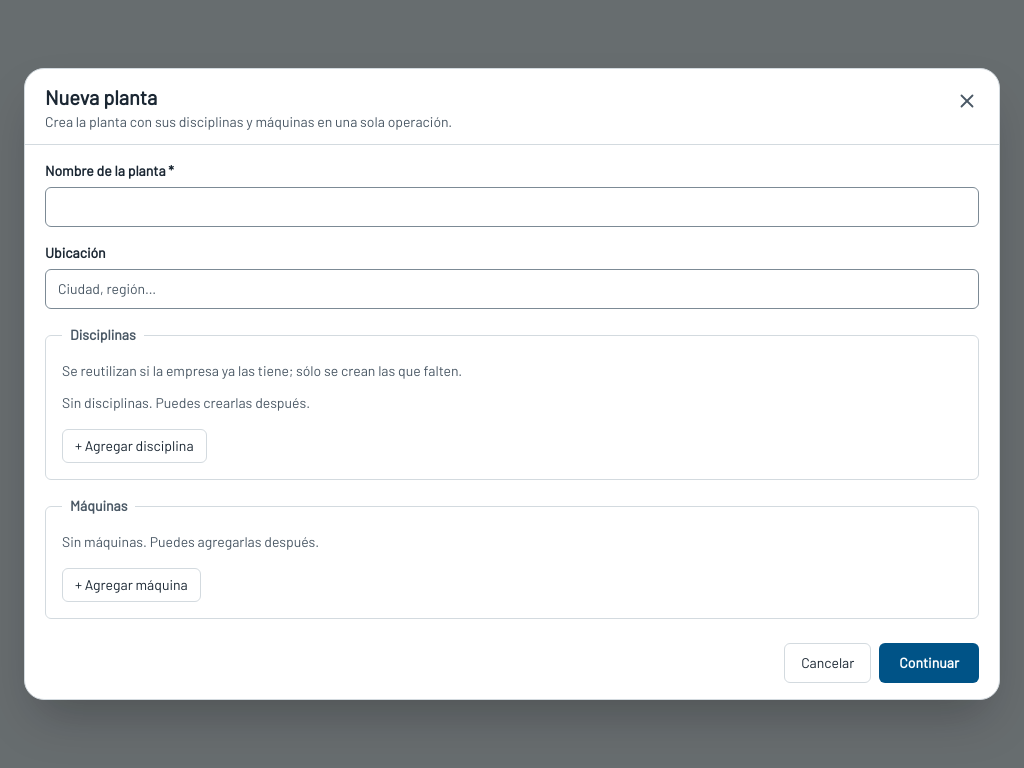
PlantaFormModalComponent › máquinas › se agregan y se quitan, con sus tres campos
Expected: the text "Sin máquinas. Puedes agregarlas después." is shown, [62,533,319,550]
Click the button with test id "agregar-maquina". click: (131, 585)
box: [62,568,201,602]
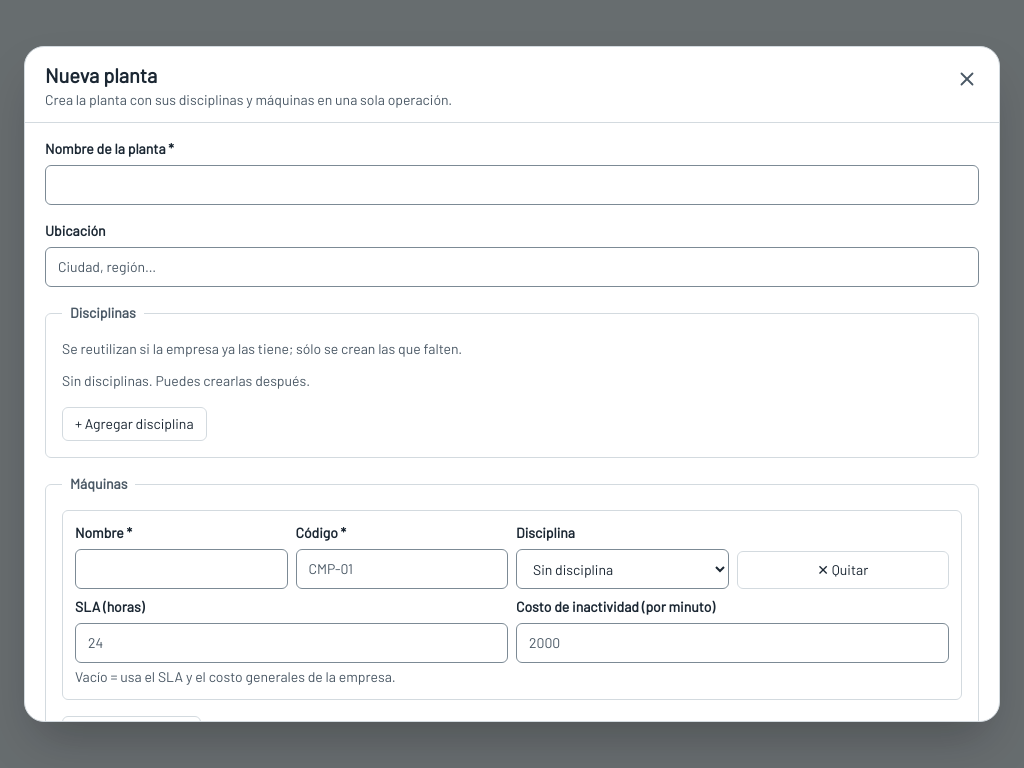
Result: the number of fields with test id "maquina-nombre" is 1 at [75,549,288,589]
Result: the number of fields with test id "maquina-codigo" is 1 at [296,549,508,589]
Result: the number of dropdowns with test id "maquina-disciplina" is 1 at [516,549,728,589]
Click the button "✕ Quitar". click: (843, 570)
box: [736,551,949,589]
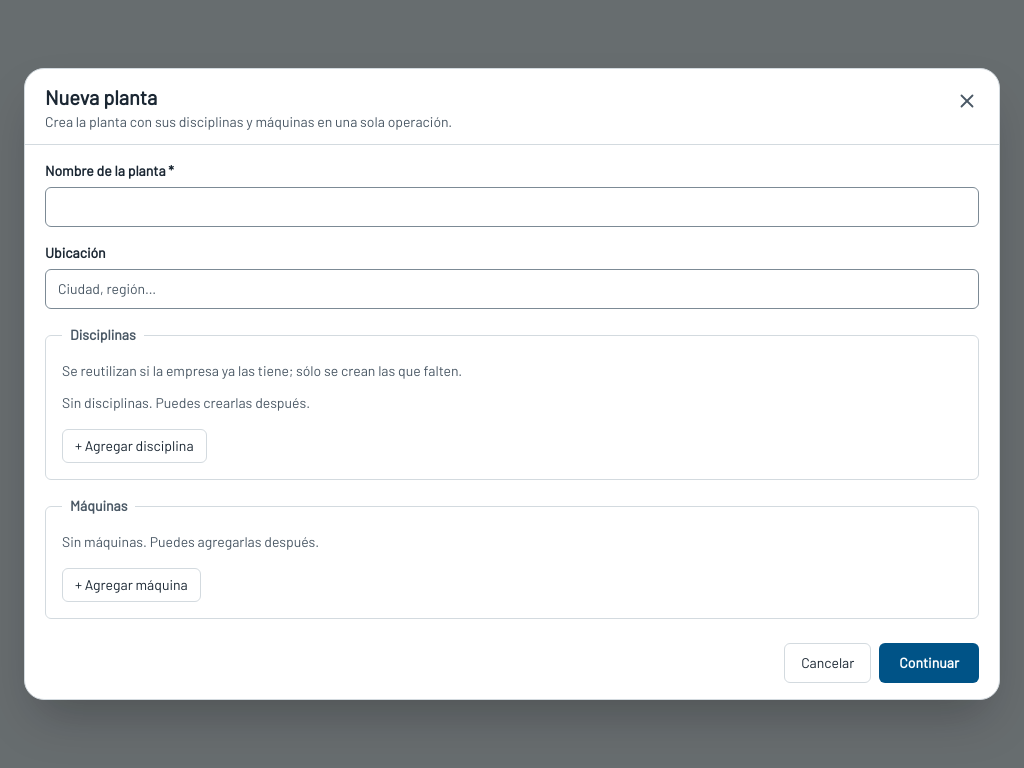
Result: the text "Sin máquinas. Puedes agregarlas después." is shown at [62,533,319,550]
